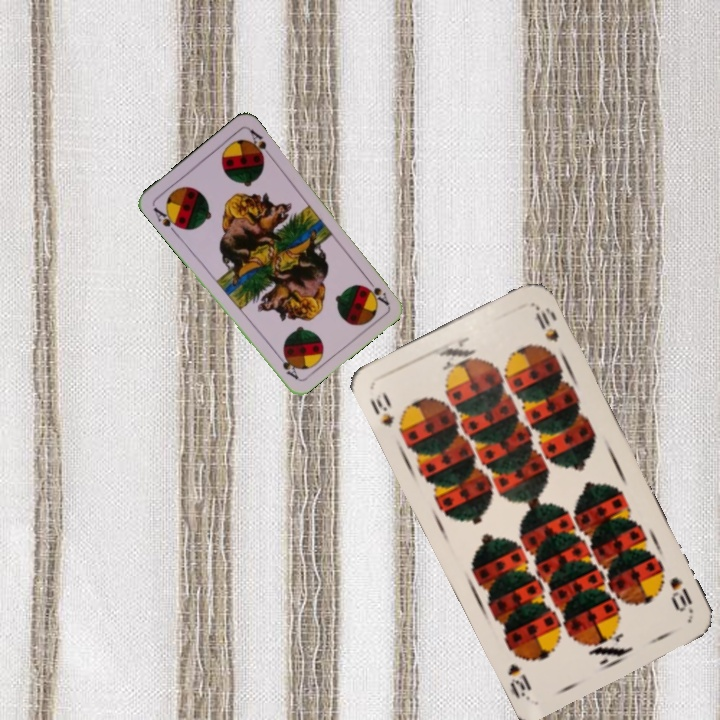S10: (366, 388, 397, 431), (665, 573, 696, 616)
SA: (149, 203, 184, 236), (362, 273, 391, 308)
